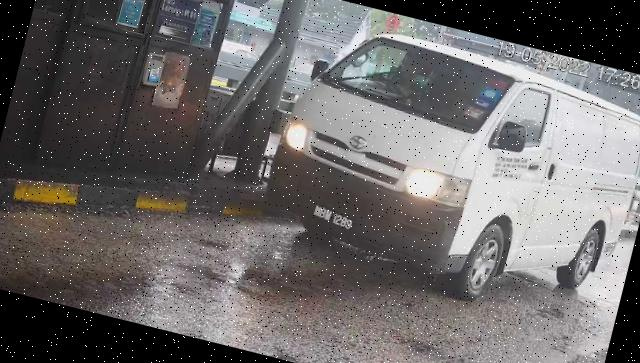License_Plate: (305, 199, 362, 239)
van: (253, 14, 640, 334)
